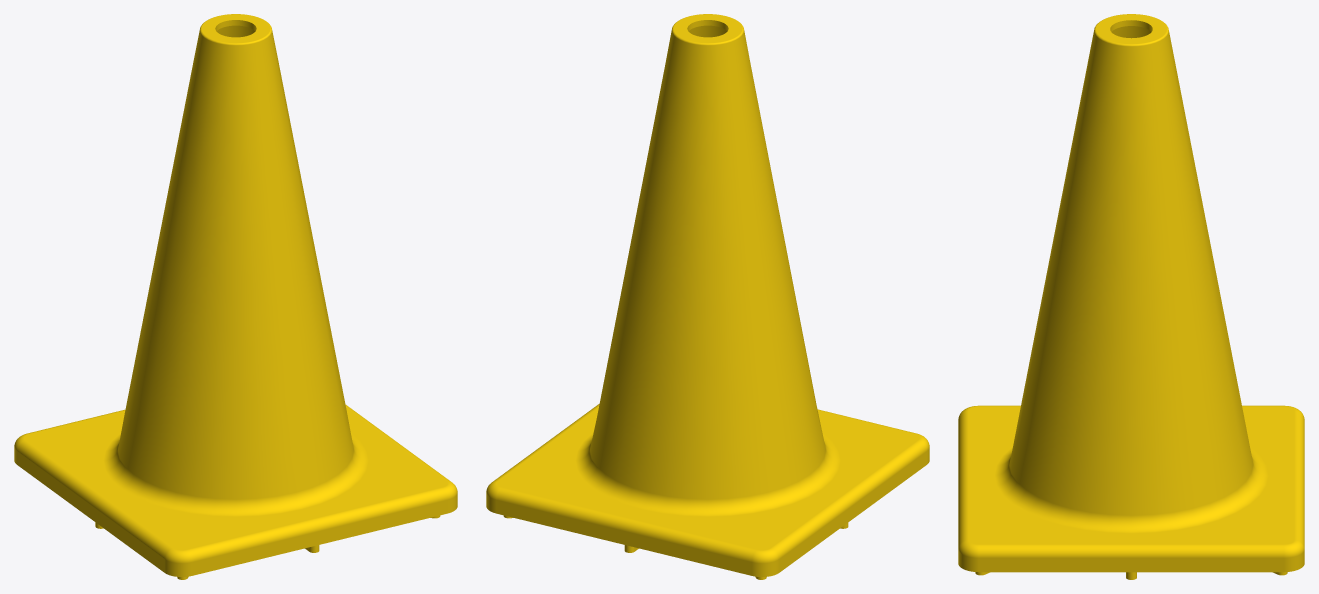
3 renders of one model, left to right at view 1: azimuth 30°, elevation 25°; view 2: azimuth 150°, elevation 25°; view 3: azimuth 270°, elevation 25°, orthographic. The views are drawn at different scales.
Parts seen in each view (by area): view 1: Cone; view 2: Cone; view 3: Cone.
Part boxes in pixels (bbox=[...]): Cone: bbox=[14, 14, 457, 579]; Cone: bbox=[486, 14, 929, 579]; Cone: bbox=[958, 14, 1304, 579].
Bounding box in the file's own units: 0.2127 × 0.3254 × 0.2127.
